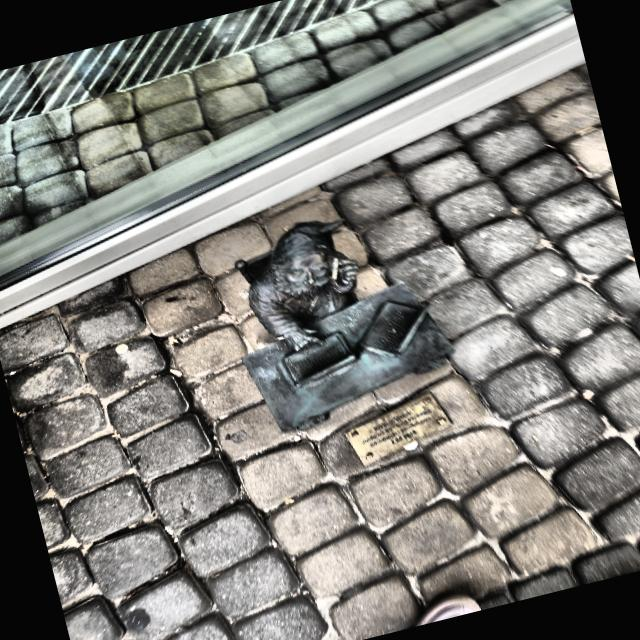WIZek: (236, 220, 452, 431)
